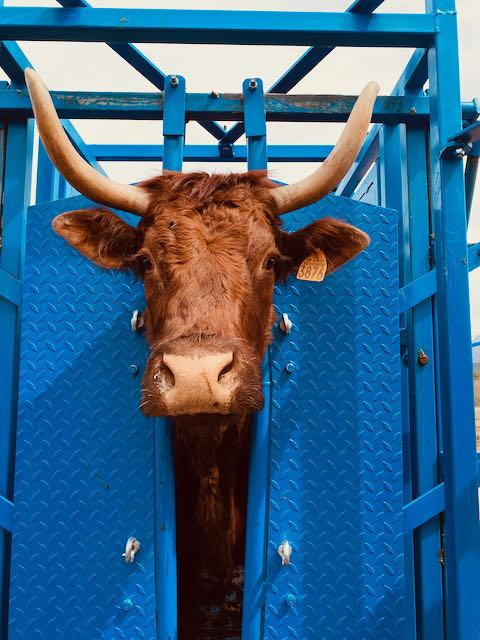muzzles: (132, 353, 275, 423)
